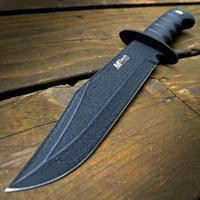knife: (3, 7, 189, 196)
